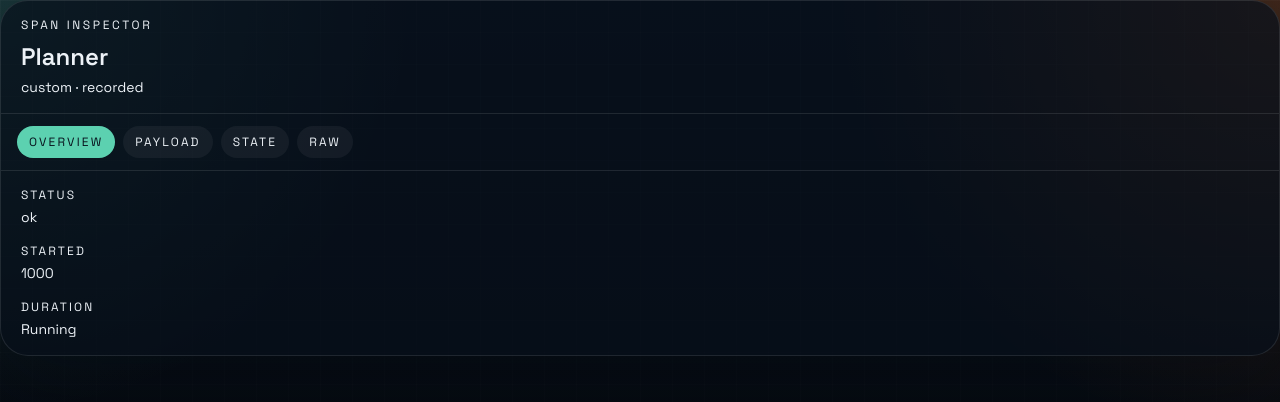
Scenario: SpanInspector › switches tabs and renders payload JSON
Step 1. Click the button "payload" → (168, 142), box [123, 126, 213, 158]
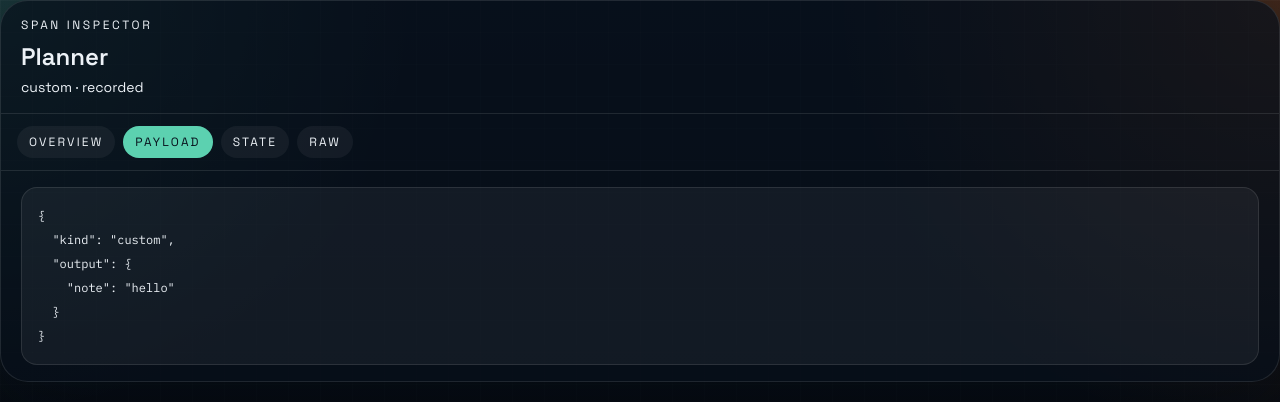
Expected: the text "{ \"kind\": \"custom\", \"output\": { \"note\": \"hello\" } }" is shown, [21, 187, 1259, 365]
Step 2. Click the button "state" → (255, 142), box [221, 126, 289, 158]
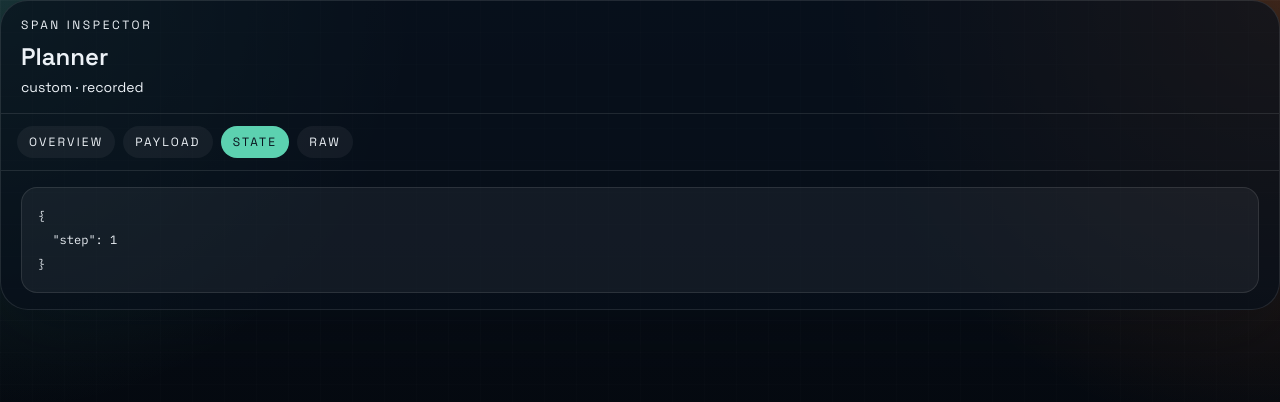
Expected: the text "{ \"step\": 1 }" is shown, [21, 187, 1259, 293]
Step 3. Click the button "raw" → (325, 142), box [297, 126, 353, 158]
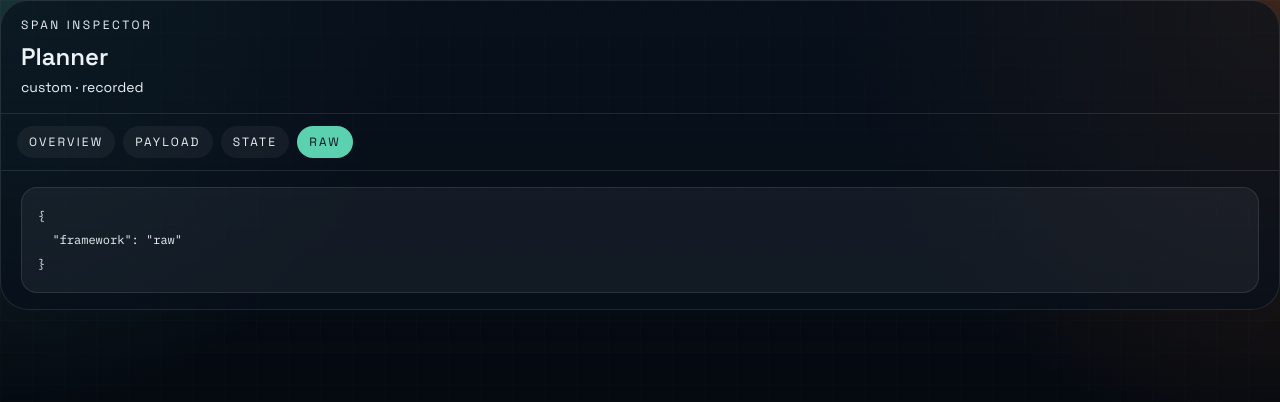
Expected: the text "{ \"framework\": \"raw\" }" is shown, [21, 187, 1259, 293]
